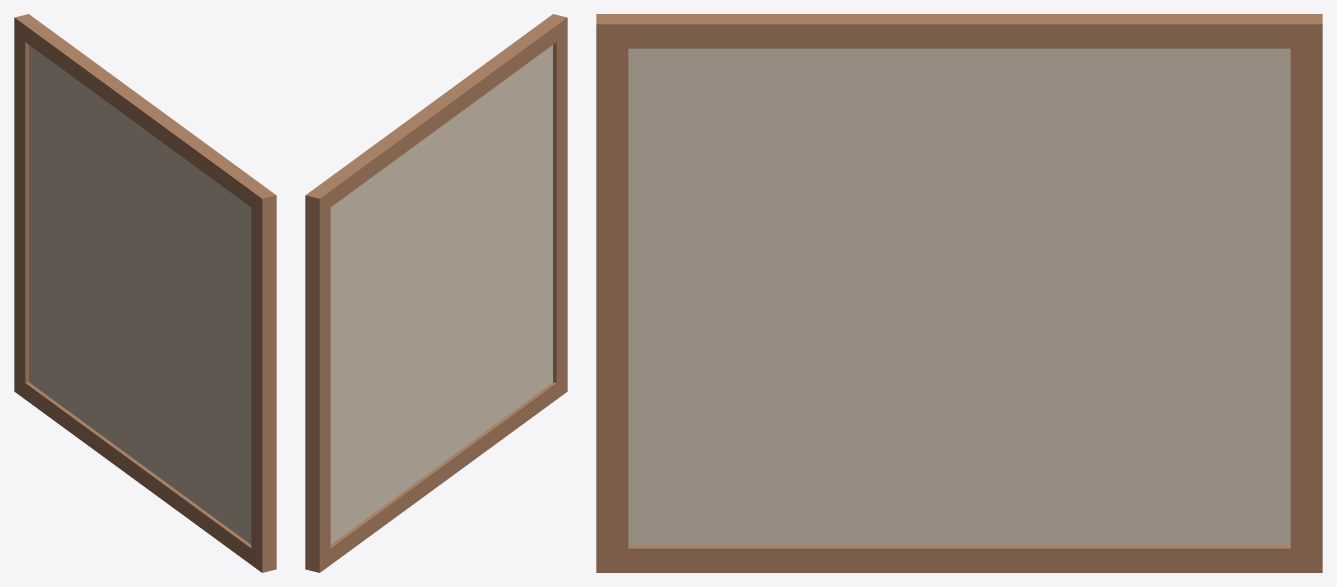
Rendered from quadro2.fbx.
3 views of the same model, side by side, from view 1: azimuth 30°, elevation 25°; view 2: azimuth 150°, elevation 25°; view 3: azimuth 270°, elevation 25° (orthographic). The views are drawn at different scales.
Visible parts, largest first — view 1: Cube; view 2: Cube; view 3: Cube.
Part boxes in pixels (x1,y1,x2,y2): Cube: (14, 14, 276, 572); Cube: (305, 14, 567, 572); Cube: (596, 14, 1322, 572).
Bounding box in the file's own units: 20.06 × 500 × 600.
